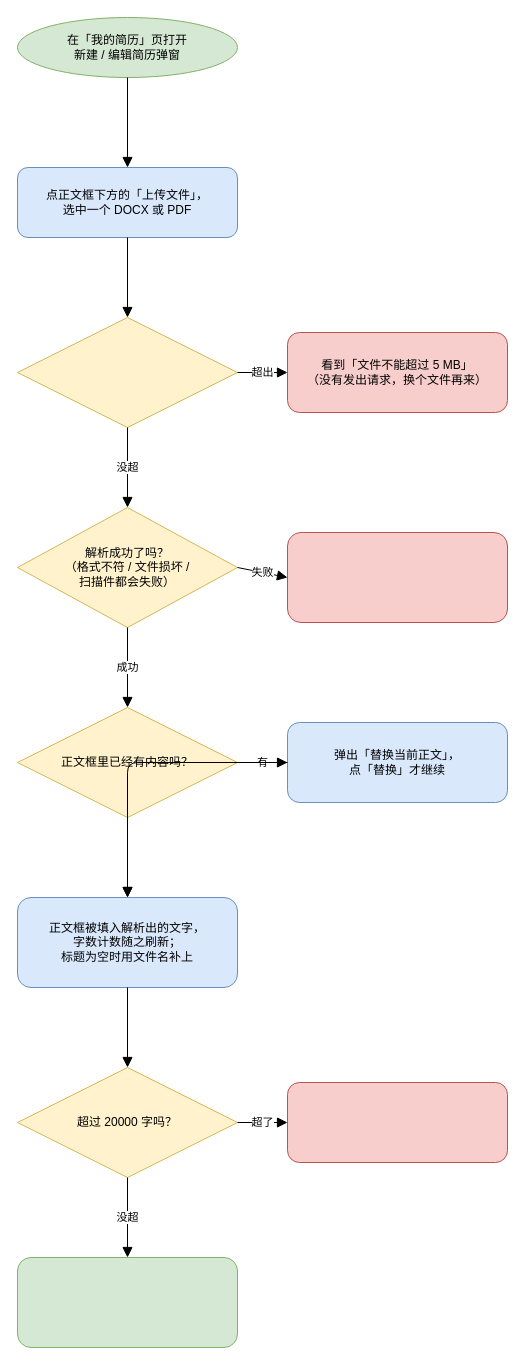
Image size: 525x1365. Some labels were removed from this diagram. The shapes that lost their labels are listed below. From the top down, each one's box as (x1, y1, x2, y2) in pixels, then its label:
(16, 316, 238, 428): 文件不超过 5 MB 吗？
(286, 532, 508, 622): 看到后端原样给出的文案， 例如「只支持 DOCX 或 PDF」 「这可能是扫描件，请改为粘贴」
(286, 1082, 508, 1162): 计数变红、保存按钮禁用， 提示「请精简后再保存」 （内容没有被悄悄剪掉）
(16, 1256, 238, 1348): 确认正文无误后点「创建简历」 —— 到这为止都还只是填框， 点保存才真的存下这份简历
